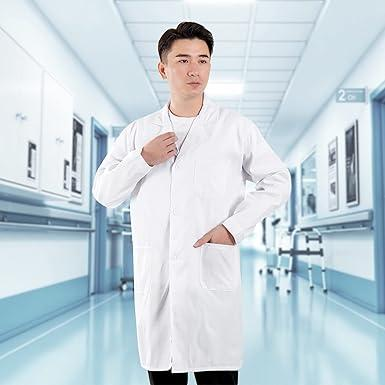Bata-Correcta: (94, 22, 289, 384)
